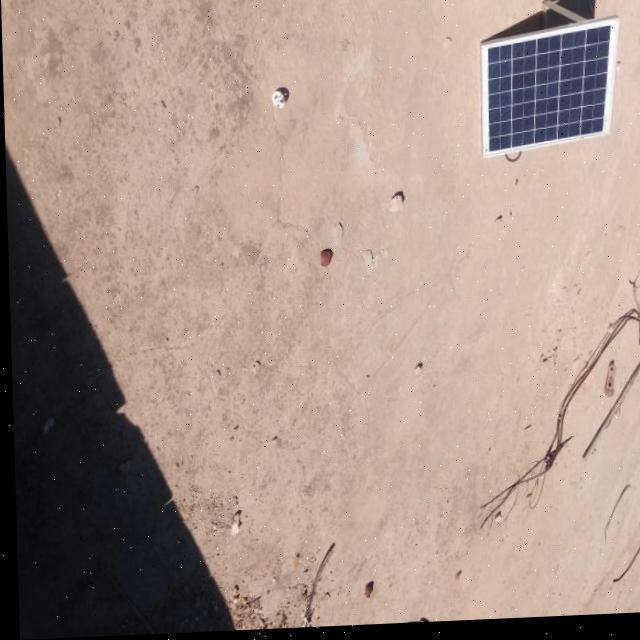Normal Solar Panel: (476, 31, 615, 162)
